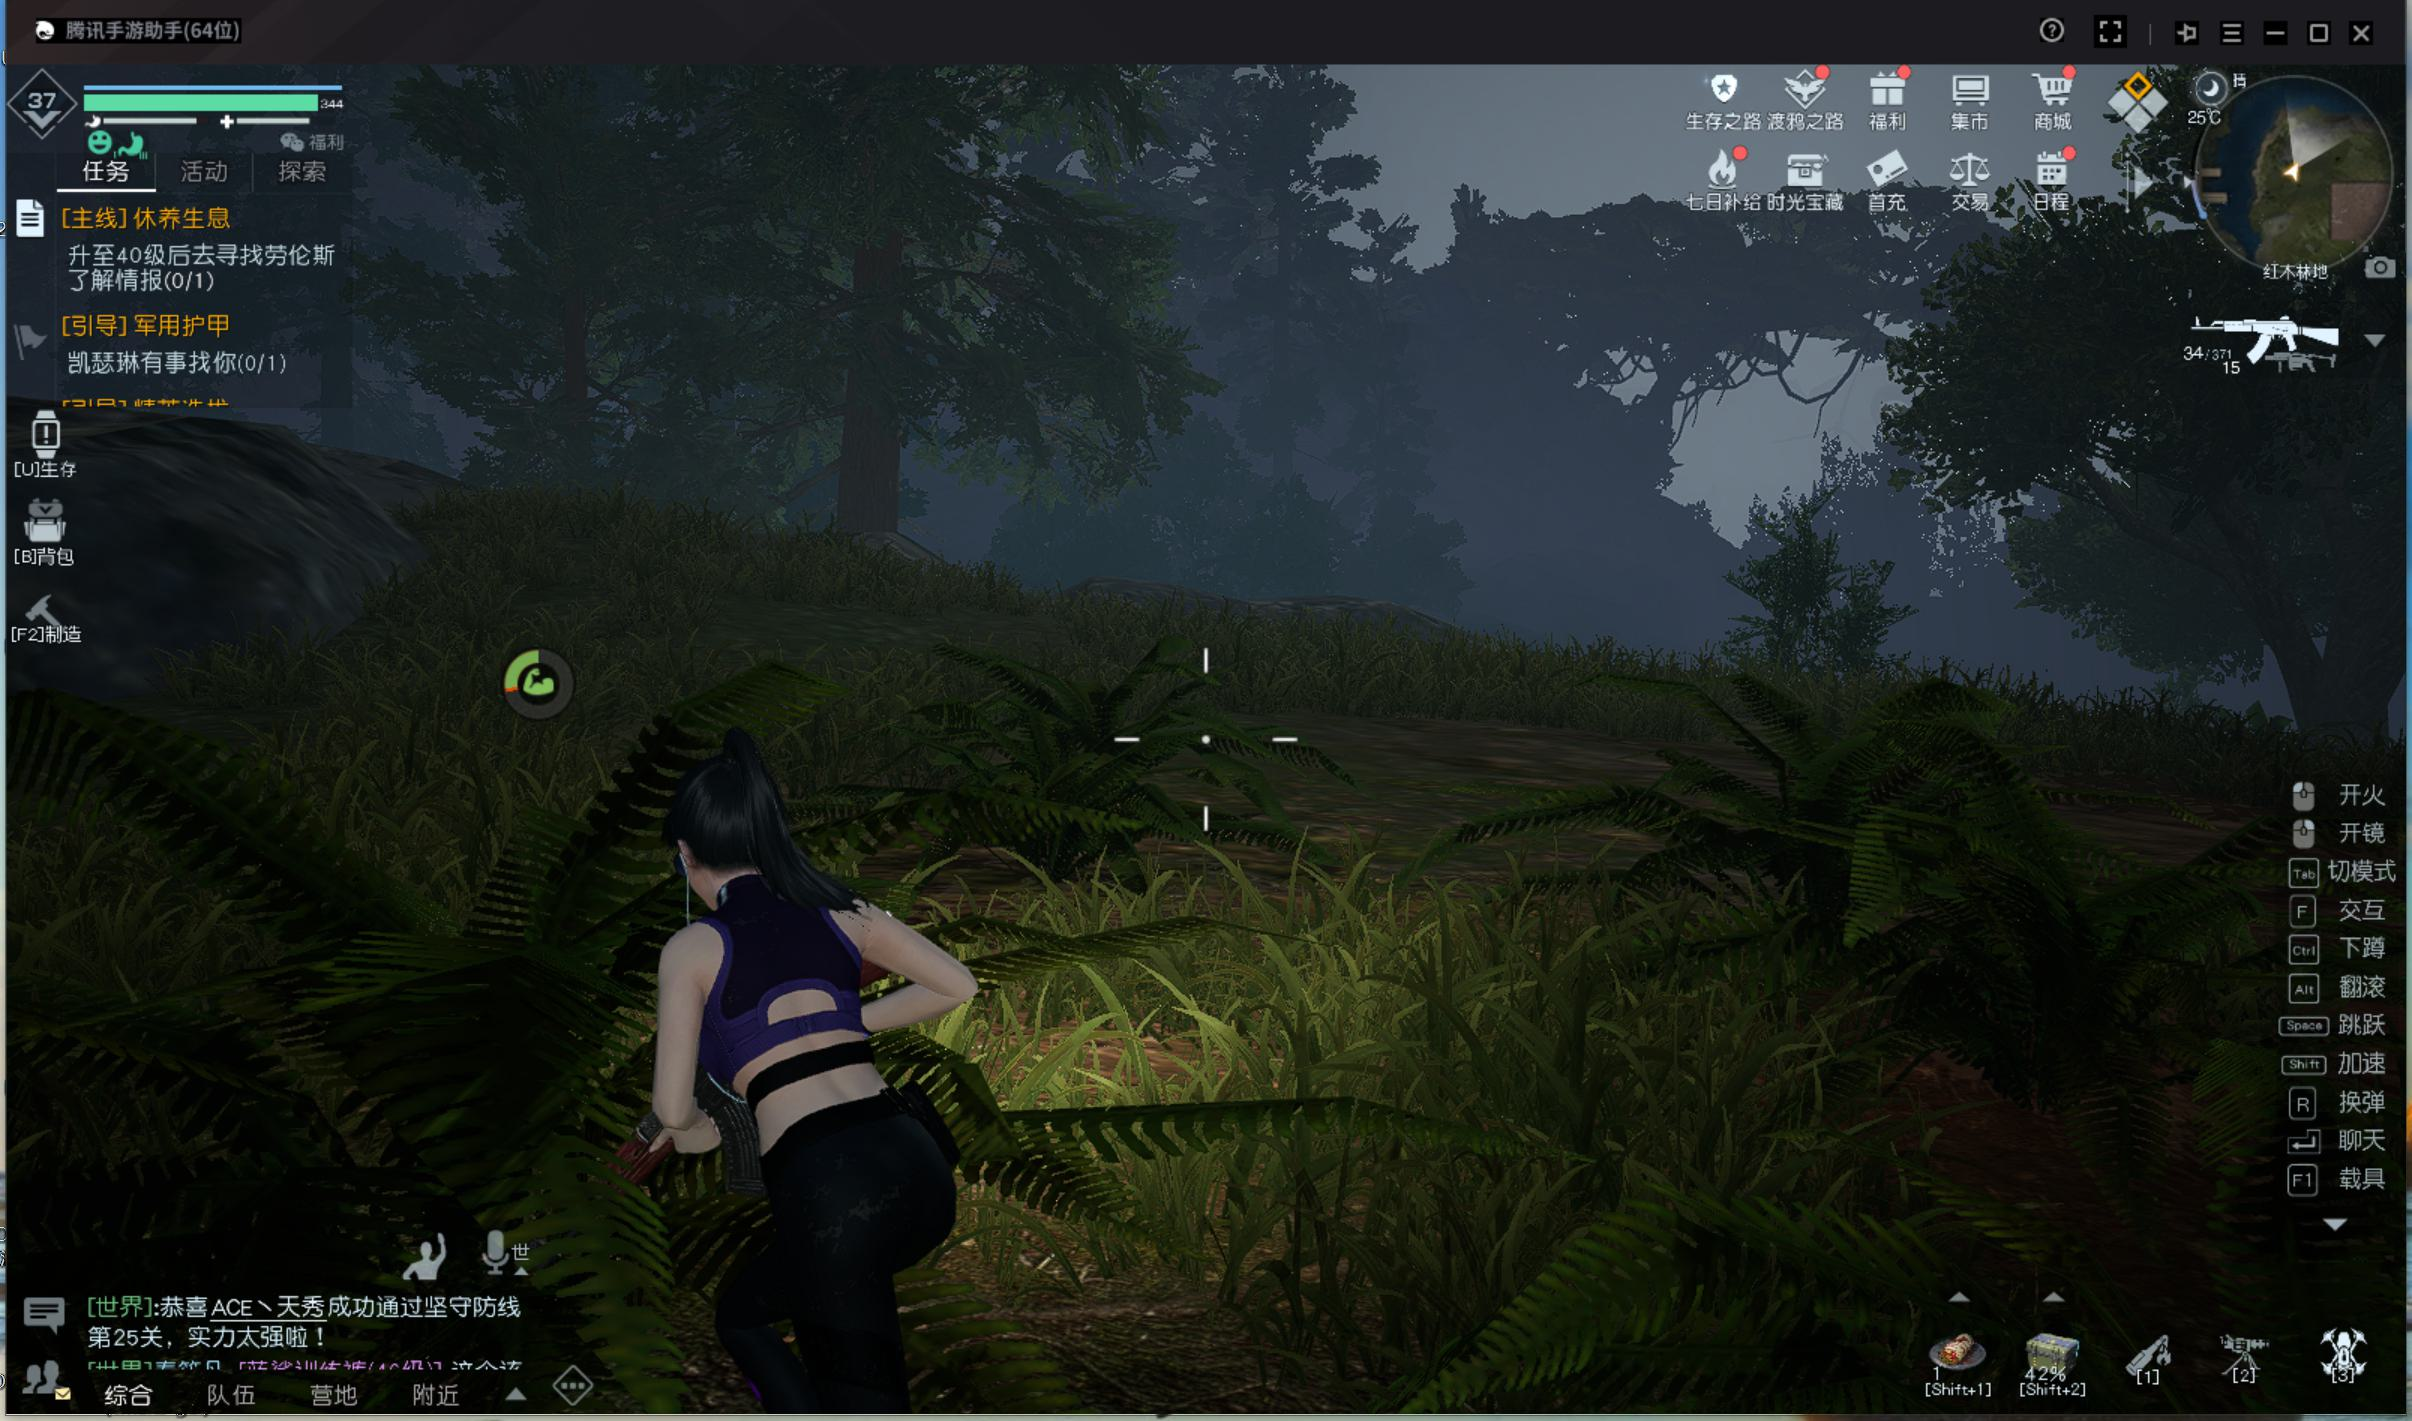tree: (830, 301, 908, 557)
